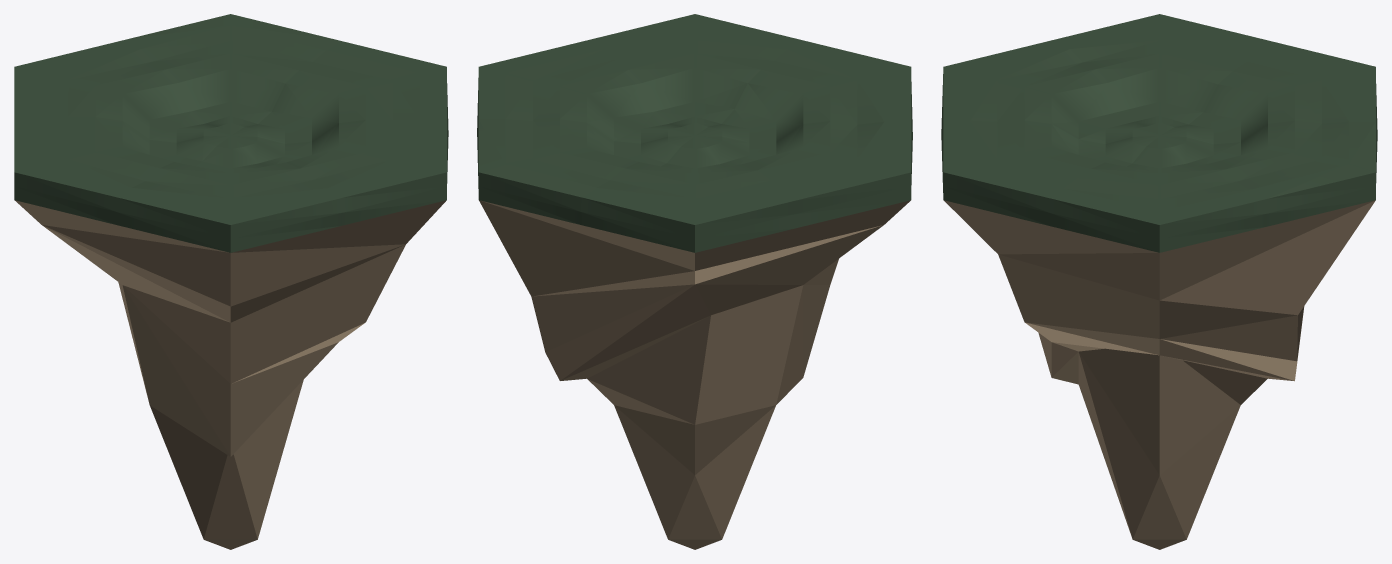
File: island_indent.fbx
3 renders of one model, left to right at view 1: azimuth 30°, elevation 25°; view 2: azimuth 150°, elevation 25°; view 3: azimuth 270°, elevation 25°, orthographic.
Parts seen in each view (by area): view 1: landmass5; view 2: landmass5; view 3: landmass5.
Part boxes in pixels (x1,y1,x2,y2): landmass5: (14, 14, 448, 549); landmass5: (477, 14, 912, 549); landmass5: (941, 14, 1377, 549).
Size of the model in its own units: 20.62 by 19.68 by 18.01.
